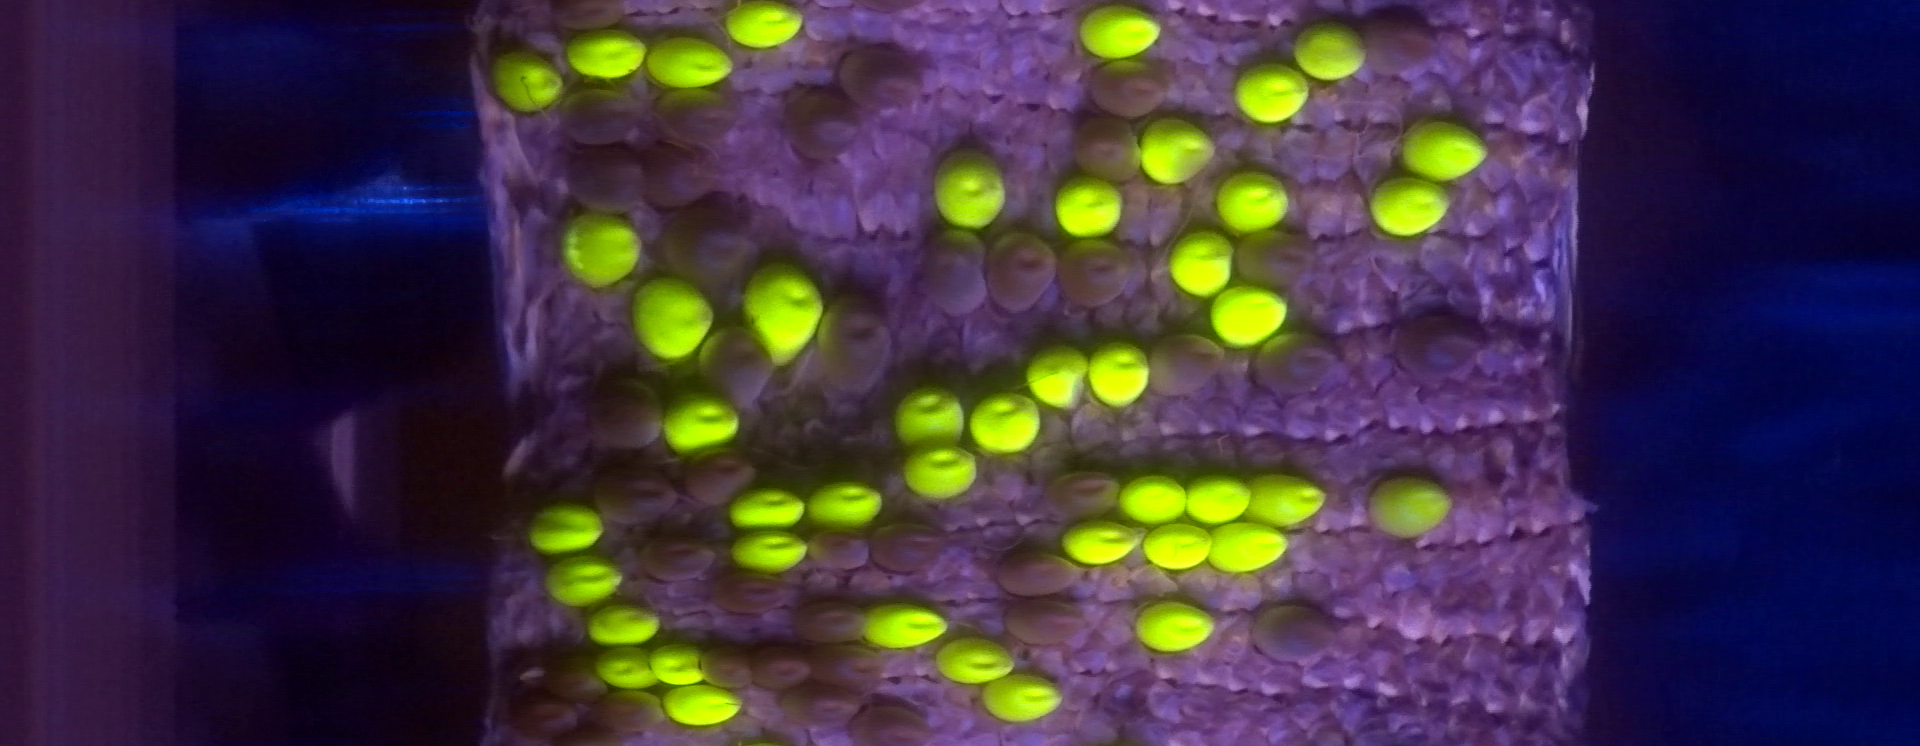fluorescent: (744, 263, 823, 360), (632, 281, 707, 355), (564, 216, 636, 285), (1140, 119, 1212, 184), (1209, 285, 1283, 345), (1411, 121, 1484, 181), (1373, 475, 1449, 533), (856, 605, 947, 650), (937, 149, 996, 219), (1056, 176, 1123, 236), (1370, 180, 1449, 232), (667, 393, 740, 448), (1220, 175, 1287, 234), (972, 391, 1040, 450), (491, 53, 561, 109), (1090, 343, 1150, 408), (1242, 475, 1322, 523), (1138, 599, 1213, 648), (902, 388, 964, 448), (1031, 339, 1087, 404), (909, 442, 971, 499), (1297, 23, 1362, 77), (648, 40, 726, 85), (1209, 528, 1287, 572), (726, 4, 800, 50), (1082, 7, 1158, 51), (984, 677, 1060, 722), (530, 506, 604, 551), (1237, 69, 1303, 118), (1118, 475, 1184, 523), (568, 36, 640, 78), (1173, 232, 1226, 290), (544, 561, 618, 601), (662, 688, 741, 726), (934, 643, 1013, 680), (1187, 478, 1251, 522), (589, 608, 661, 646), (730, 492, 806, 528), (809, 484, 880, 522), (1142, 524, 1210, 563), (1065, 526, 1136, 562), (599, 649, 656, 688), (647, 644, 705, 681), (733, 535, 808, 563)
nonfluorescent: (1384, 312, 1484, 387), (819, 296, 891, 392), (591, 367, 667, 453), (1255, 598, 1338, 671), (1060, 229, 1134, 312), (989, 228, 1060, 311), (779, 86, 858, 158), (1360, 9, 1441, 80), (1080, 56, 1173, 118), (926, 227, 989, 316), (672, 212, 749, 285), (702, 322, 771, 403), (1258, 333, 1342, 399), (566, 141, 645, 211), (645, 91, 743, 146), (645, 141, 724, 207), (849, 44, 920, 116), (996, 597, 1100, 646), (1236, 232, 1320, 292), (596, 467, 682, 523), (1069, 113, 1141, 176), (562, 87, 642, 145), (997, 545, 1085, 597), (1149, 339, 1228, 396), (1044, 467, 1123, 522), (688, 452, 757, 507), (871, 526, 949, 573), (811, 641, 890, 687), (638, 534, 714, 582), (538, 653, 606, 703), (850, 701, 926, 746), (782, 684, 864, 725), (716, 568, 787, 615), (796, 597, 872, 639), (752, 639, 816, 688), (809, 528, 869, 575), (509, 696, 580, 735), (552, 1, 628, 34), (703, 637, 753, 685), (602, 691, 665, 728)
